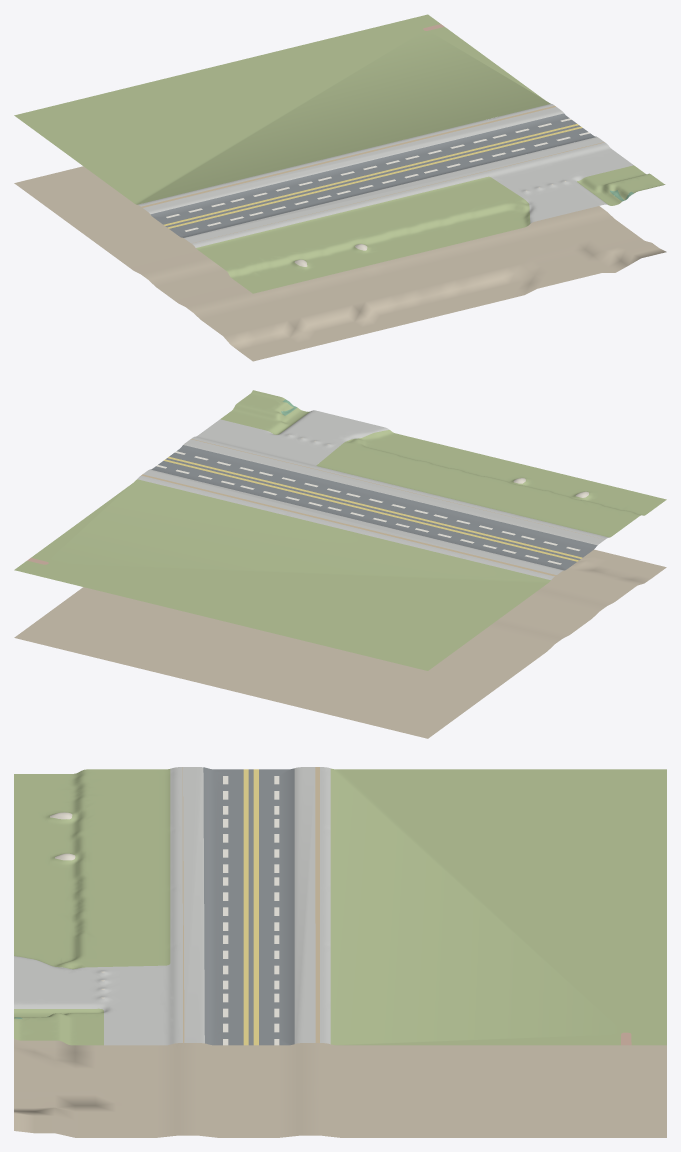
3 renders of one model, top to bottom at view 1: azimuth 30°, elevation 25°; view 2: azimuth 150°, elevation 25°; view 3: azimuth 270°, elevation 25°, orthographic. The views are drawn at different scales.
Visible parts, largest first — view 1: s_-2_-2__grass, s_-2_-2__soil, s_-2_-2__stone_paving, s_-2_-2__asphalt, s_-2_-2__yellow_marking, s_-2_-2__timber_deck, s_-2_-2__white_marking; view 2: s_-2_-2__grass, s_-2_-2__soil, s_-2_-2__stone_paving, s_-2_-2__asphalt, s_-2_-2__yellow_marking, s_-2_-2__timber_deck, s_-2_-2__white_marking; view 3: s_-2_-2__grass, s_-2_-2__soil, s_-2_-2__stone_paving, s_-2_-2__asphalt, s_-2_-2__yellow_marking, s_-2_-2__white_marking, s_-2_-2__timber_deck.
Boxes of the visible parts, left/top/right/bottom form: s_-2_-2__grass: left=14, top=14, right=665, bottom=293; s_-2_-2__soil: left=14, top=139, right=666, bottom=361; s_-2_-2__stone_paving: left=137, top=104, right=633, bottom=247; s_-2_-2__asphalt: left=150, top=113, right=596, bottom=237; s_-2_-2__yellow_marking: left=163, top=124, right=582, bottom=228; s_-2_-2__timber_deck: left=141, top=105, right=604, bottom=243; s_-2_-2__white_marking: left=166, top=118, right=589, bottom=231; s_-2_-2__grass: left=14, top=390, right=666, bottom=670; s_-2_-2__soil: left=14, top=549, right=666, bottom=738; s_-2_-2__stone_paving: left=137, top=410, right=608, bottom=579; s_-2_-2__asphalt: left=150, top=445, right=597, bottom=570; s_-2_-2__yellow_marking: left=163, top=456, right=582, bottom=561; s_-2_-2__timber_deck: left=141, top=439, right=604, bottom=576; s_-2_-2__white_marking: left=156, top=451, right=580, bottom=564; s_-2_-2__grass: left=14, top=768, right=666, bottom=1045; s_-2_-2__soil: left=14, top=1038, right=666, bottom=1137; s_-2_-2__stone_paving: left=14, top=767, right=330, bottom=1045; s_-2_-2__asphalt: left=203, top=767, right=294, bottom=1045; s_-2_-2__yellow_marking: left=243, top=769, right=258, bottom=1045; s_-2_-2__white_marking: left=223, top=776, right=279, bottom=1045; s_-2_-2__timber_deck: left=182, top=767, right=319, bottom=1042.
Size of the model in its own units: 128 by 22.51 by 128.
